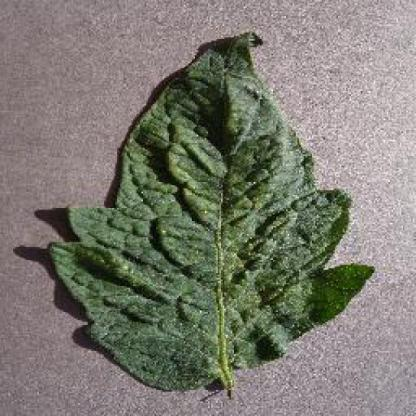Tomato_Spider_Mites: (53, 33, 372, 386)
